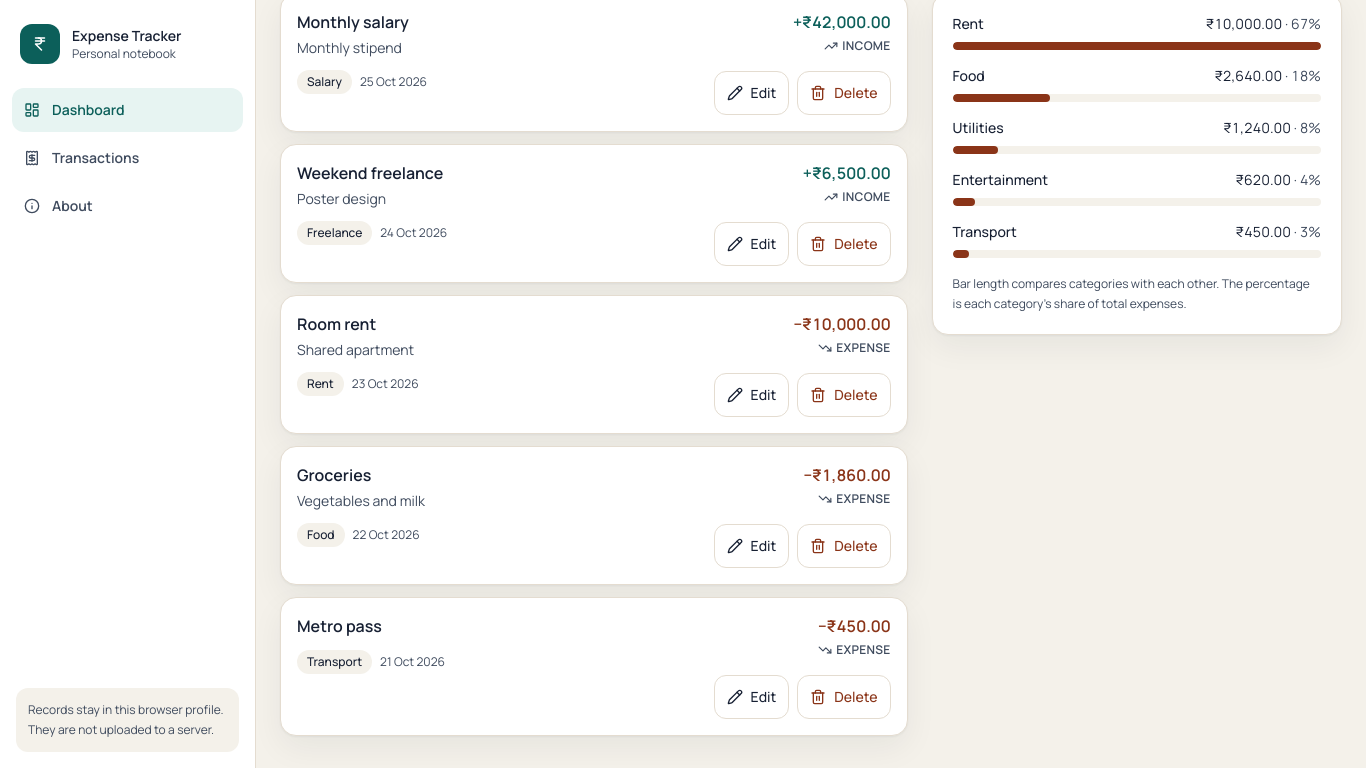
Test: Expense Tracker › edits a transaction and recalculates expenses from the full list
The image size is (1366, 768).
(page scrolled)
Click the button with aria-label "Edit Groceries" at (751, 546), box [714,524,789,568]
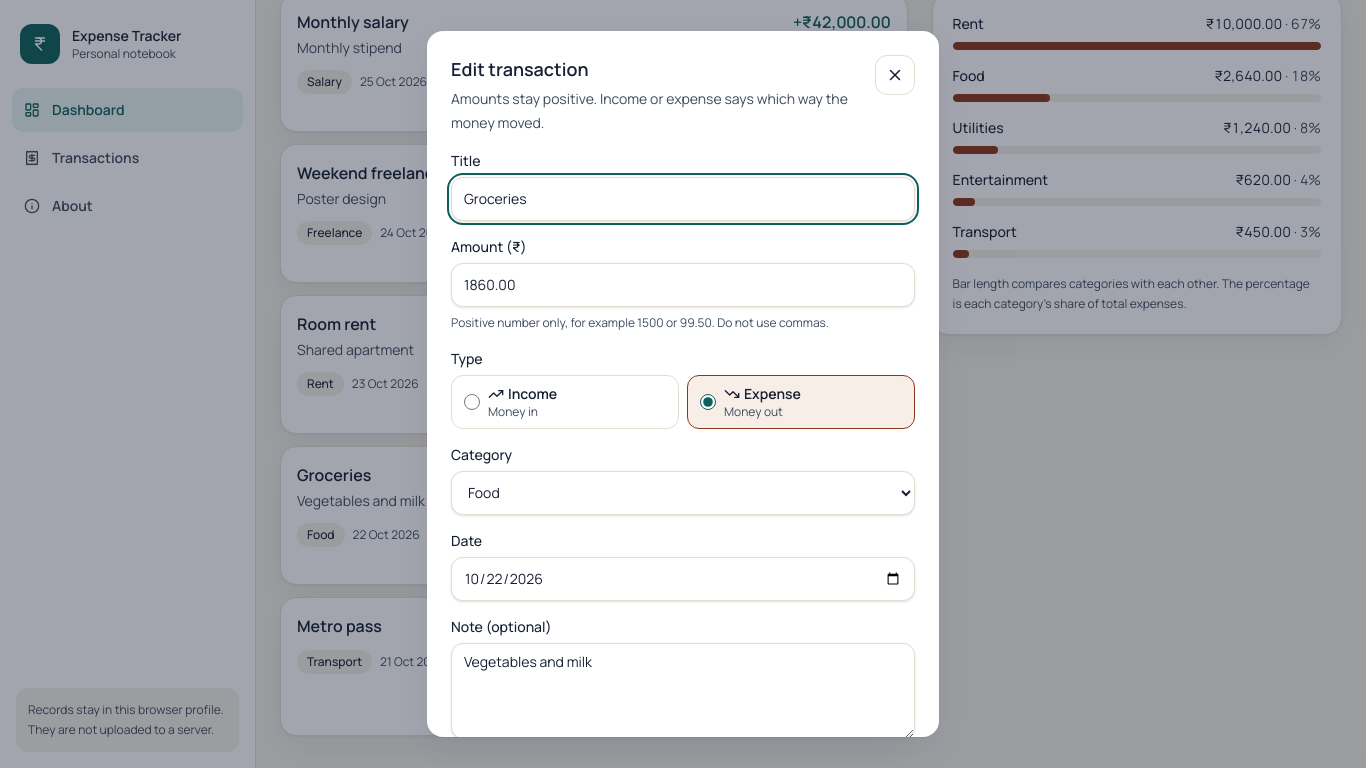
Replace the text in the field labelled "Amount (₹)" with "2000" at (683, 285), box [451,263,915,307]
(page scrolled)
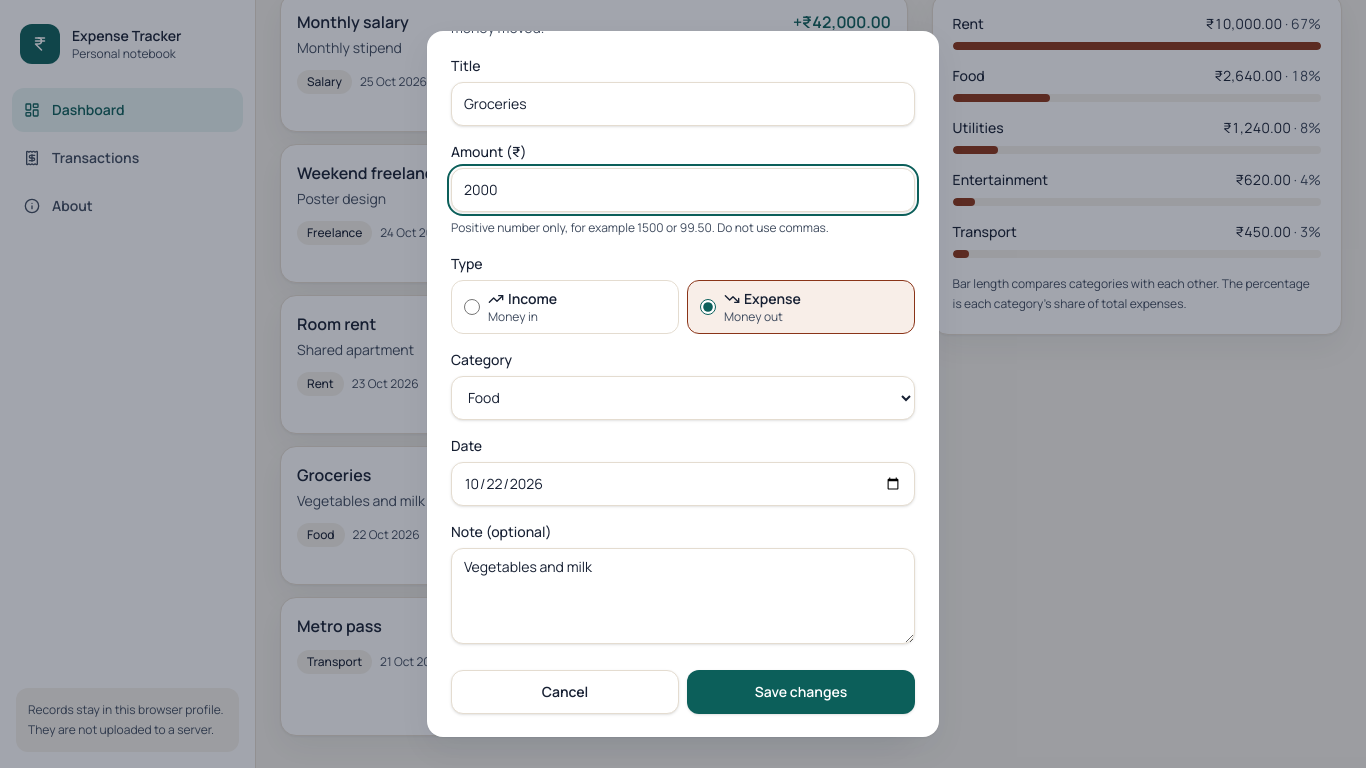
Click the button "Save changes" at (801, 692), box [687,670,915,714]
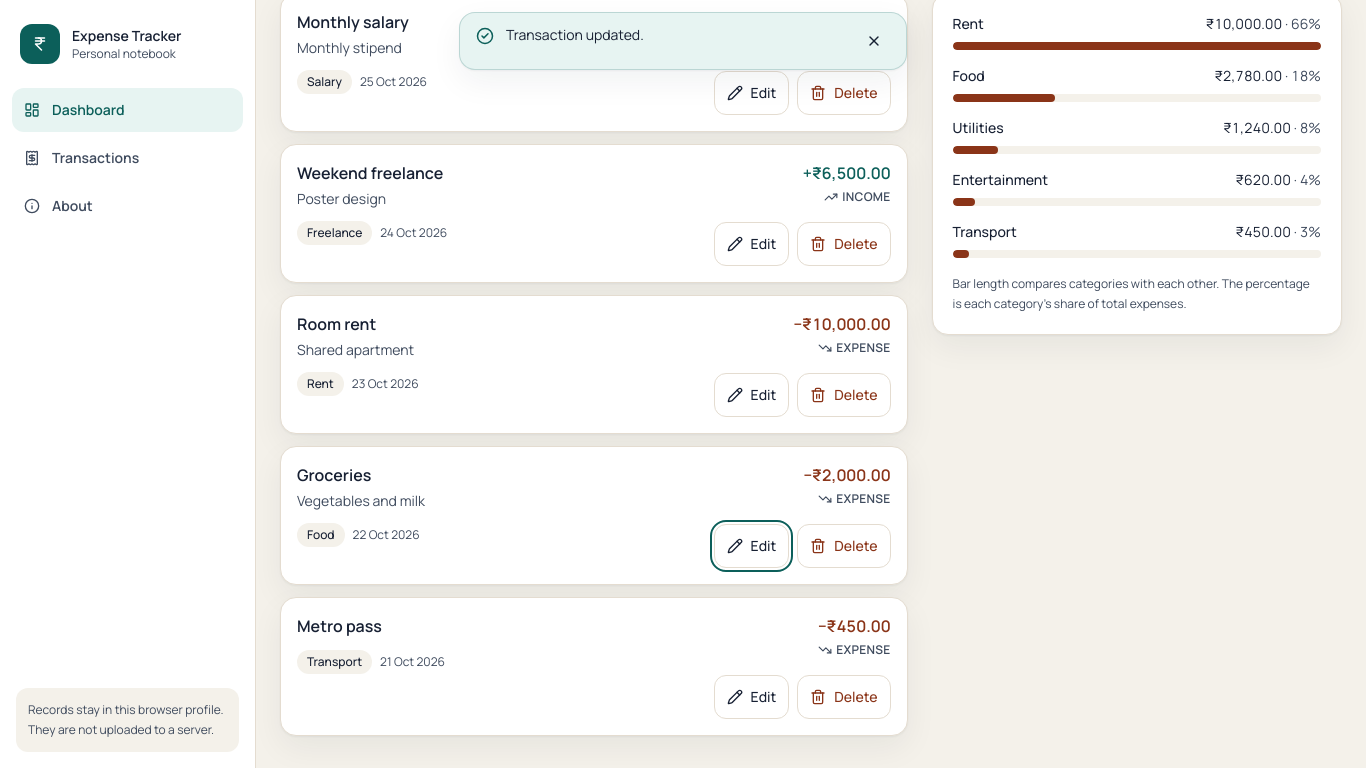
Check: the text "Vegetables and milk" is shown, box [297,491,425,511]
Check: the text "Transaction updated." is shown, box [506,25,644,44]
